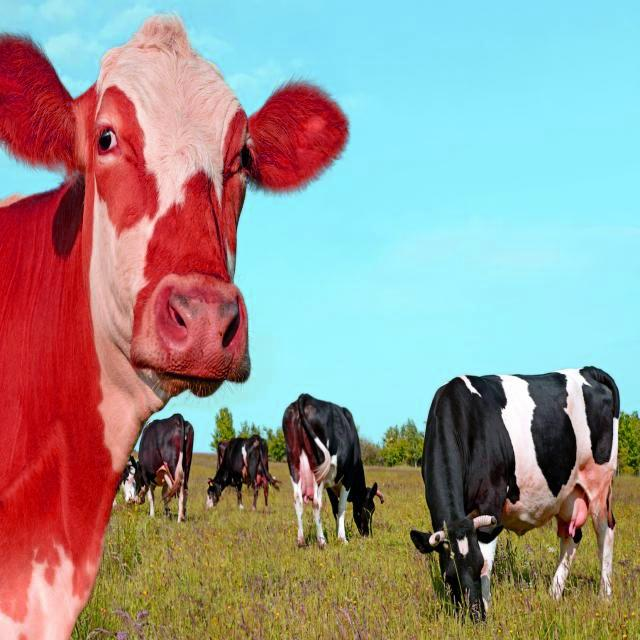cow: (0, 16, 348, 639), (411, 366, 620, 618), (282, 394, 382, 546), (121, 414, 194, 522), (206, 435, 278, 511)
